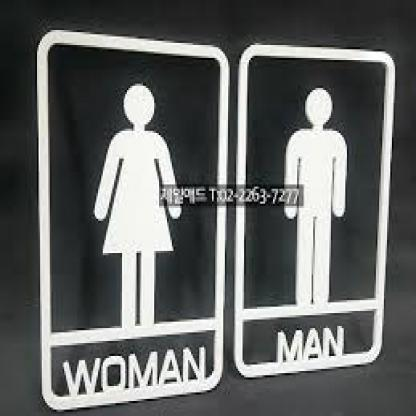toilet: (86, 72, 352, 325)
